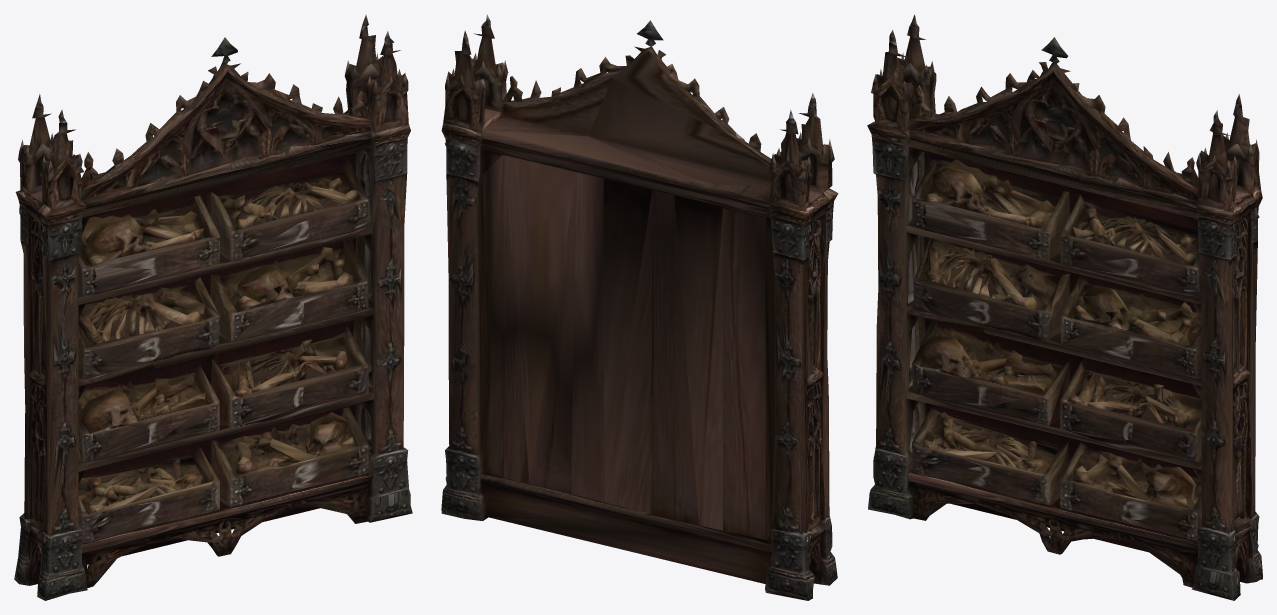
Rendered from shelf_trays.glb.
3 renders of one model, left to right at view 1: azimuth 30°, elevation 25°; view 2: azimuth 150°, elevation 25°; view 3: azimuth 330°, elevation 25°, orthographic.
Visible parts, largest first — view 1: shelf_trays; view 2: shelf_trays; view 3: shelf_trays.
Boxes of the visible parts, left/top/right/bottom form: shelf_trays: left=14, top=14, right=412, bottom=600; shelf_trays: left=441, top=14, right=838, bottom=600; shelf_trays: left=867, top=14, right=1262, bottom=600.
Size of the model in its own units: 2.9 by 3.9 by 0.42.
Materials: 1 (1 with a texture image).
